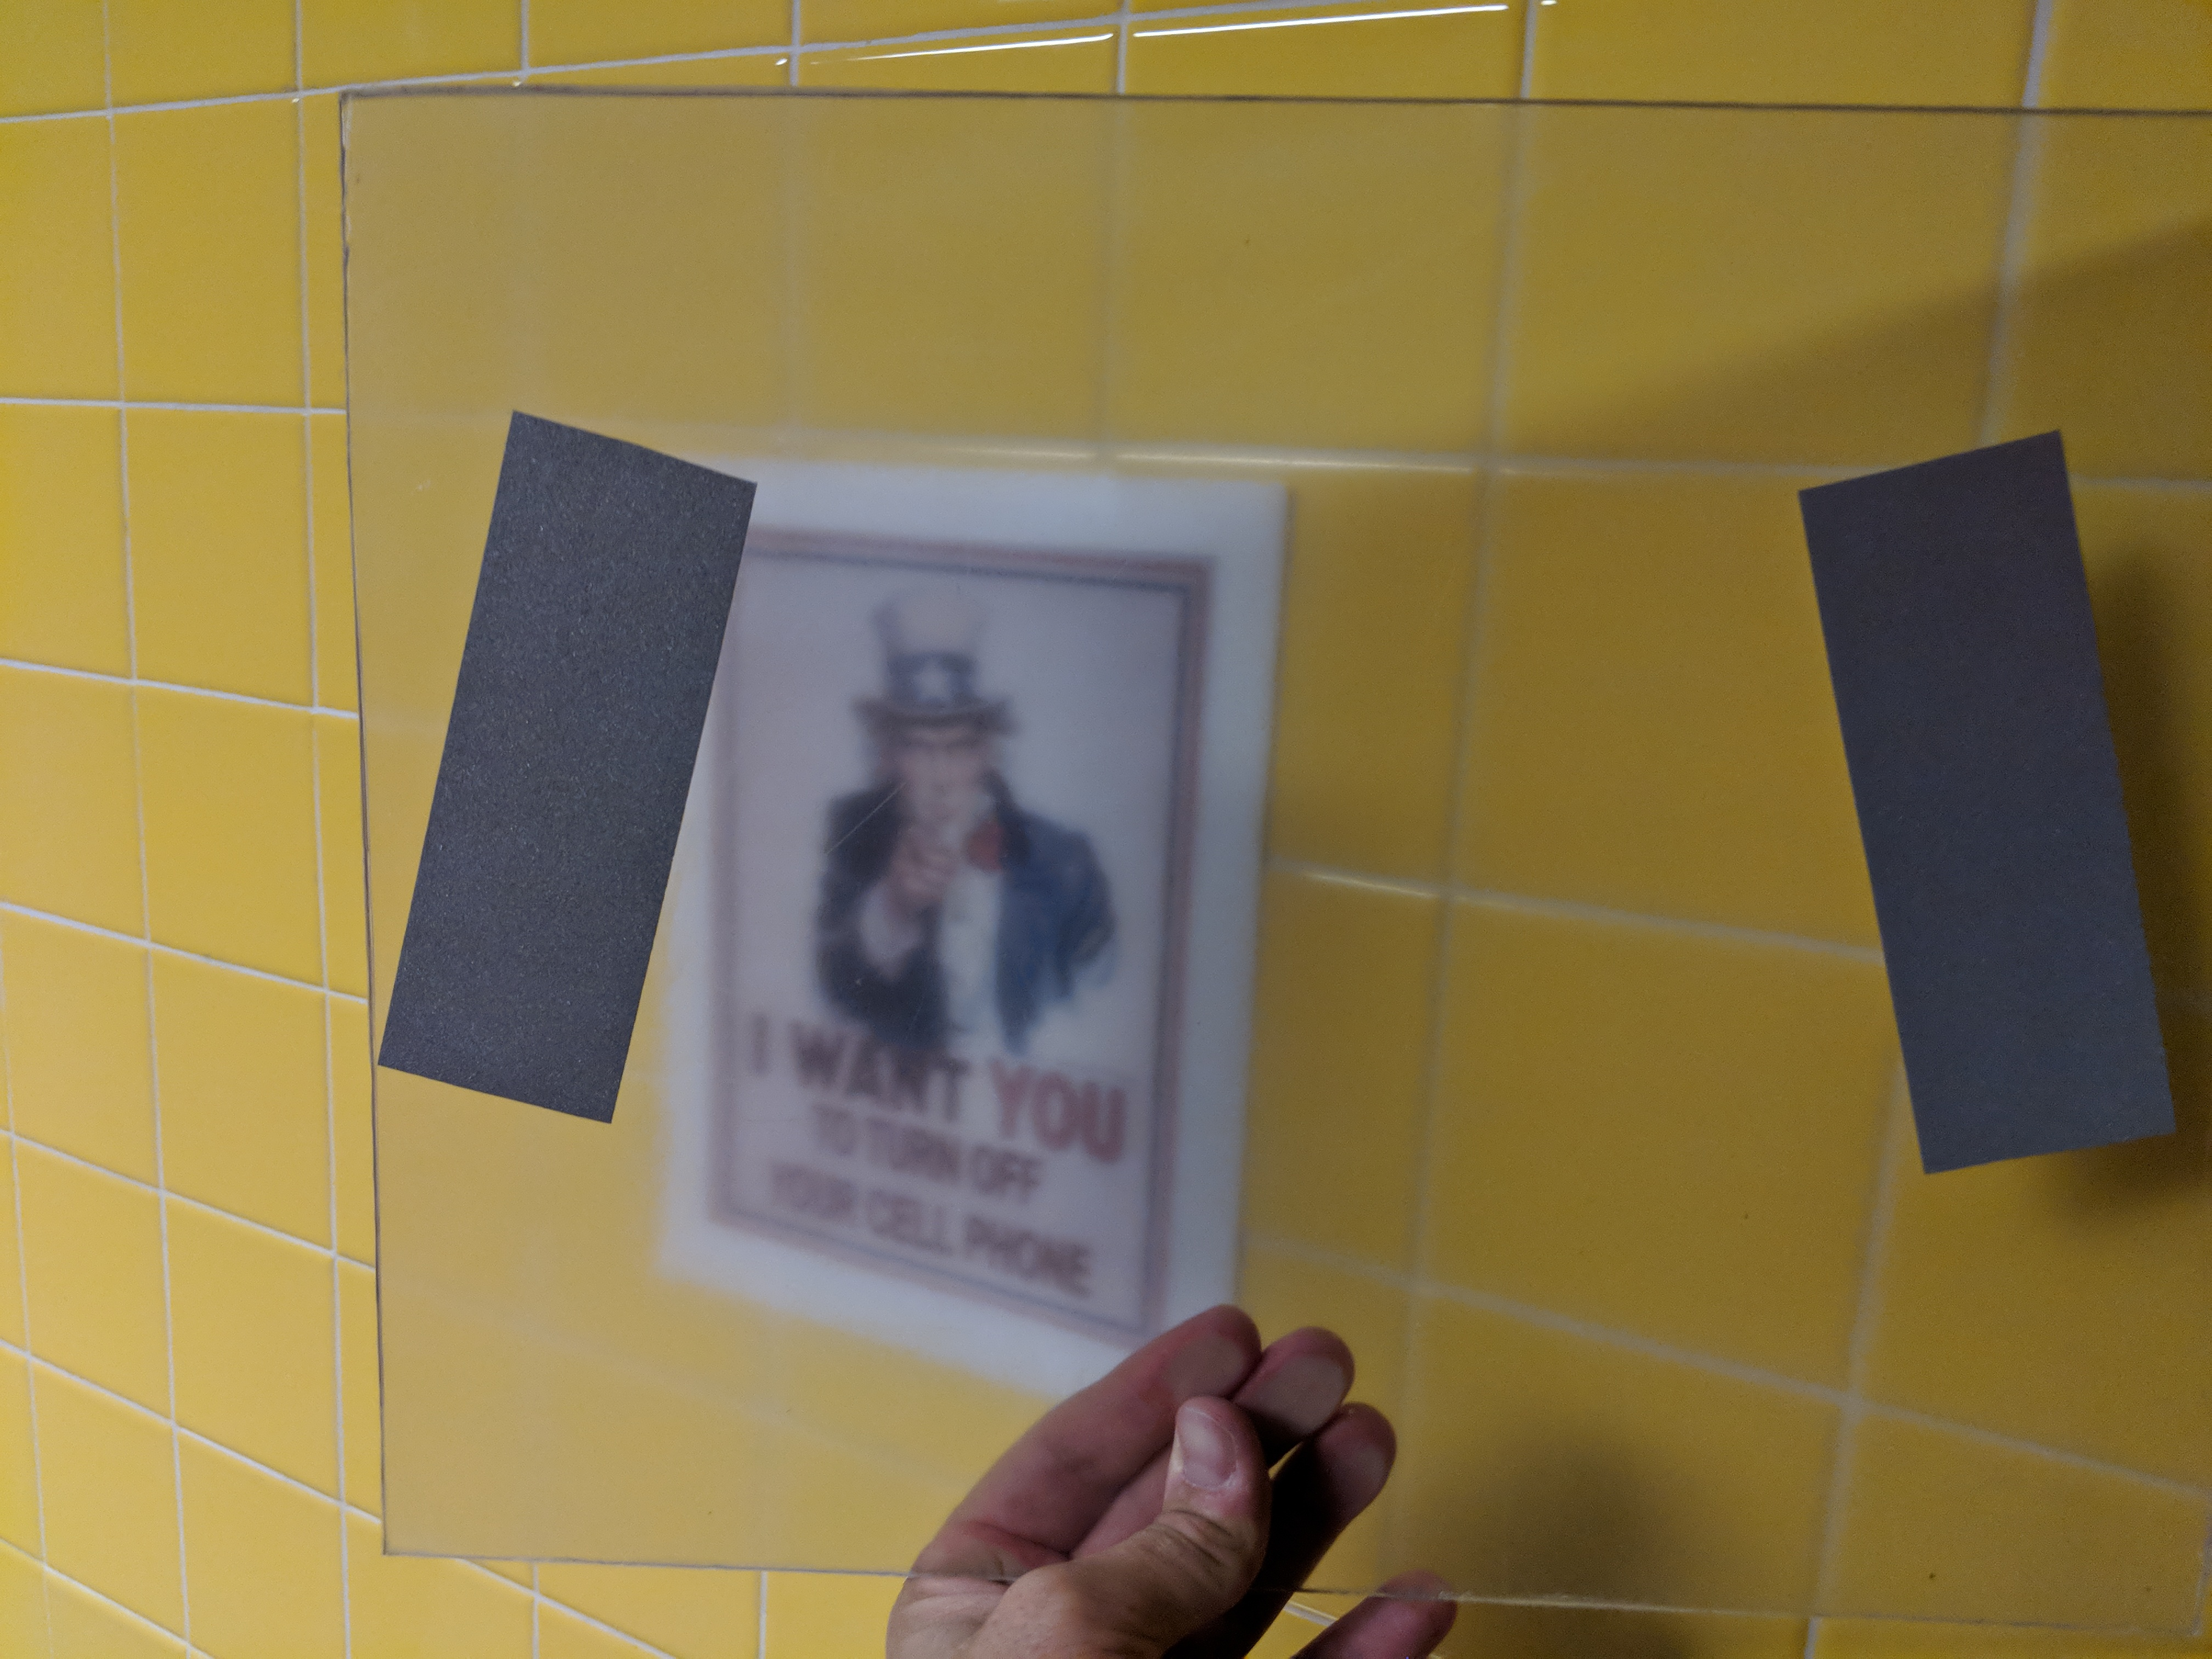vision_target: (352, 392, 2188, 1188)
